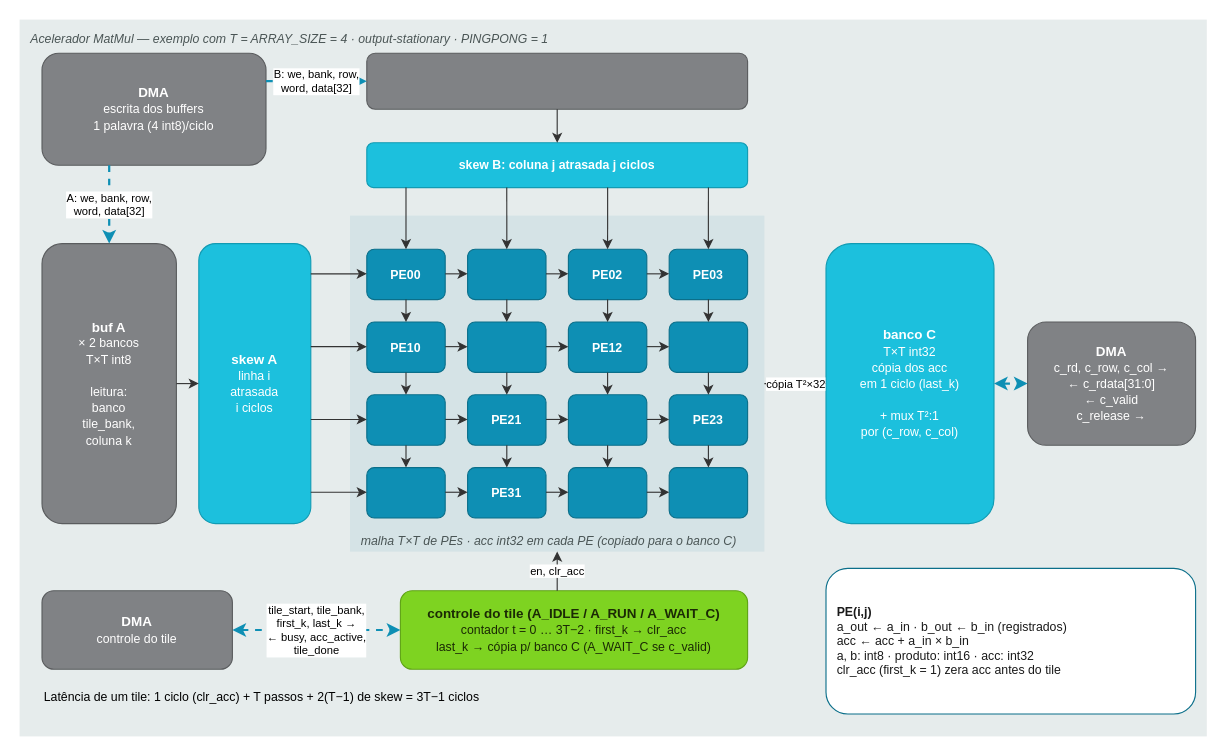
Image size: 1225x755. Some labels were removed from this diagram. Each missing label, with the centre of its shape:
buf B × 2 bancos (T×T int8) leitura: banco tile_bank, linha k: [557,80]
PE01: [506,274]
PE11: [506,346]
PE13: [708,346]
PE20: [405,419]
PE22: [607,419]
PE30: [405,492]
PE32: [607,492]
PE33: [708,492]
